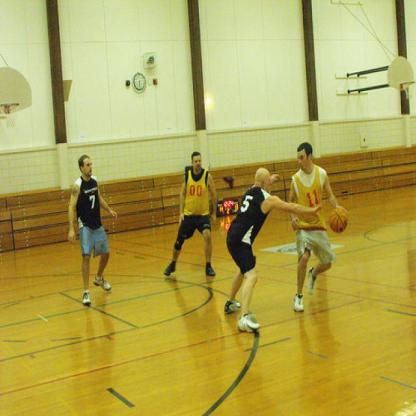basketball: (328, 206, 349, 232)
rim: (0, 101, 21, 110), (401, 80, 415, 88)
